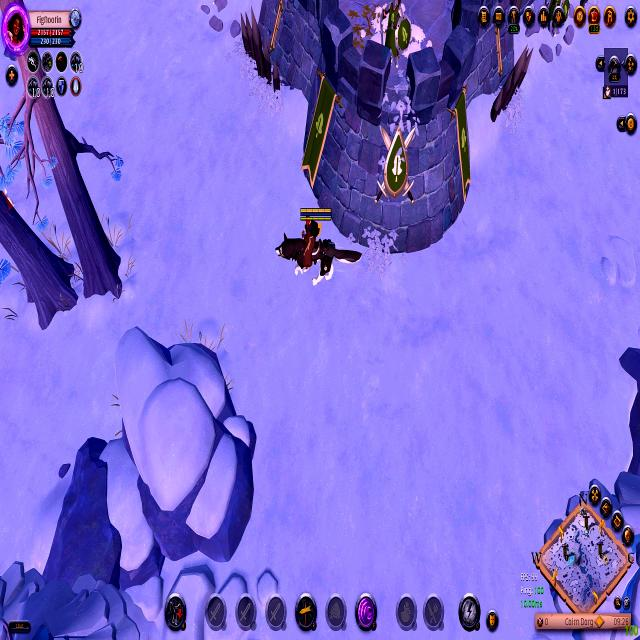red: (268, 199, 363, 291)
